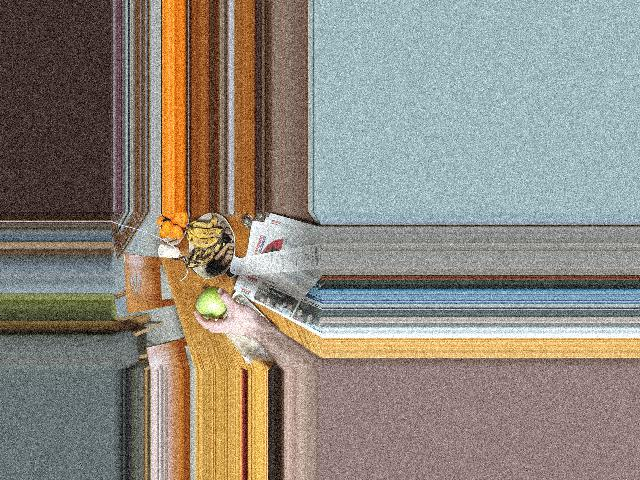apple: (194, 288, 228, 318)
